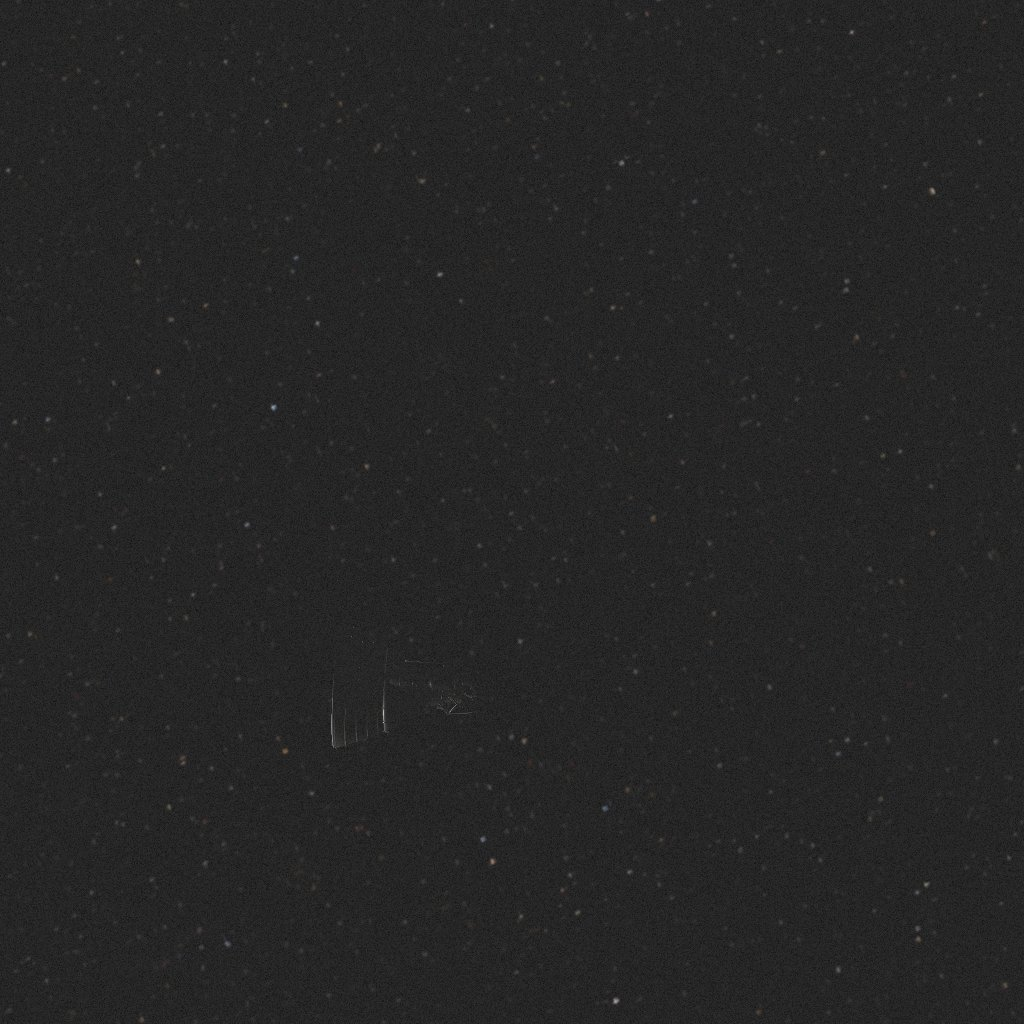debris: (332, 622, 478, 749)
